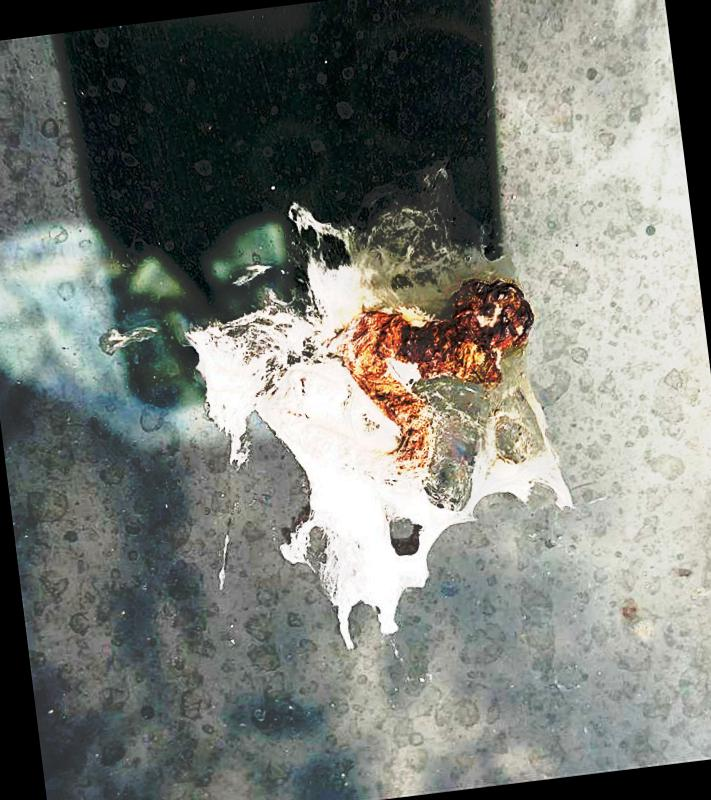Bird Poop: (187, 163, 572, 648), (105, 326, 155, 351), (231, 265, 270, 285)
